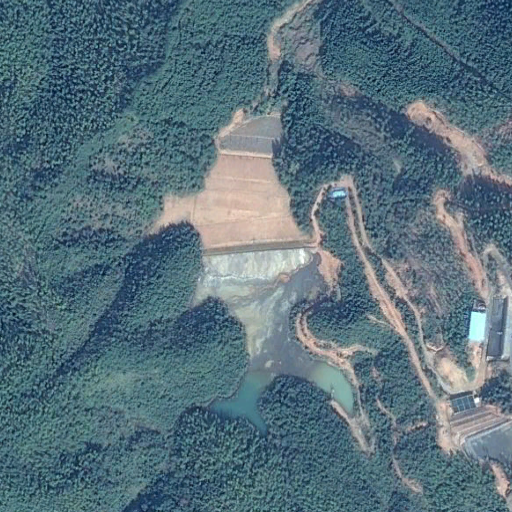tp: (145, 111, 358, 436)
